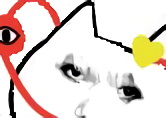dragon: (56, 63, 144, 118)
